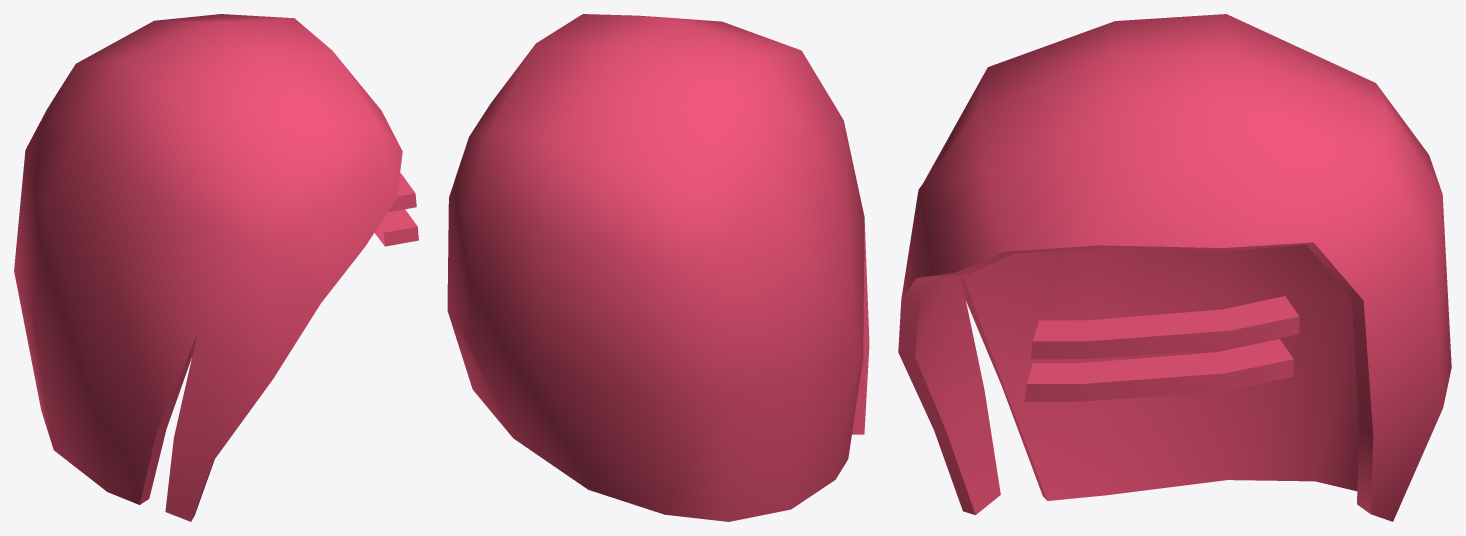
File: Hair_8.FBX
The picture shows the model from 3 angles, left to right: view 1: azimuth 30°, elevation 25°; view 2: azimuth 150°, elevation 25°; view 3: azimuth 270°, elevation 25°; orthographic projection. The views are drawn at different scales.
Parts seen in each view (by area): view 1: Hair_8; view 2: Hair_8; view 3: Hair_8.
Part boxes in pixels (<box>): Hair_8: <box>14,14,418,521</box>; Hair_8: <box>447,14,869,521</box>; Hair_8: <box>898,14,1451,521</box>.
Size of the model in its own units: 0.1793 by 0.2178 by 0.2037.
